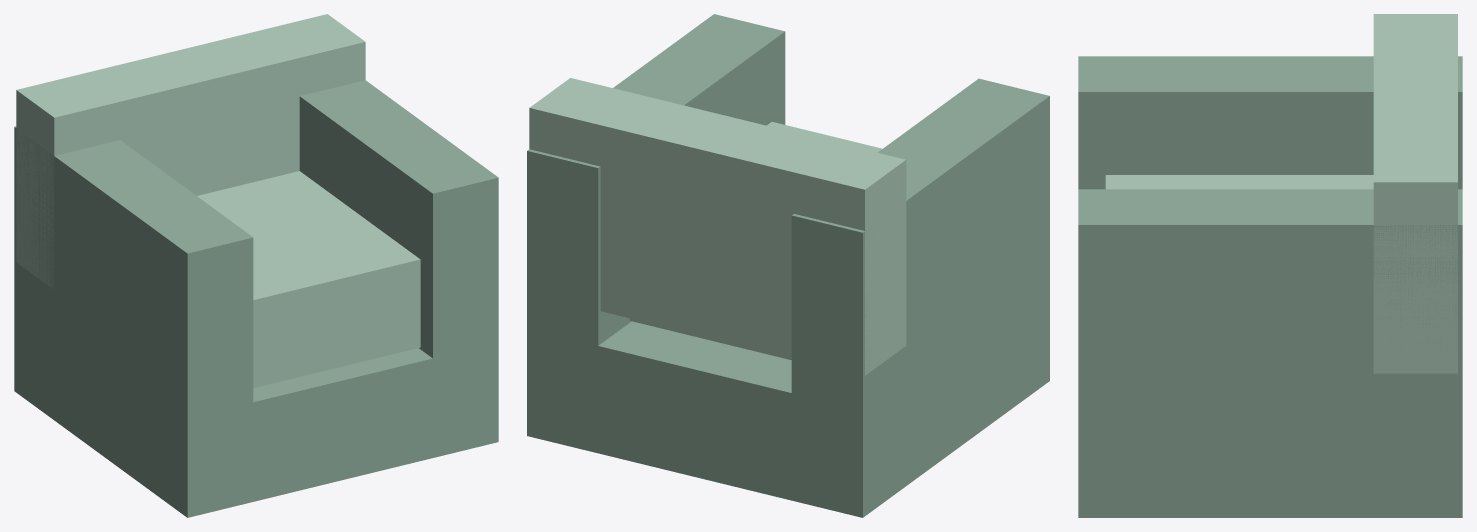
File: rf3-sofa-01.glb
3 views of the same model, side by side, from view 1: azimuth 30°, elevation 25°; view 2: azimuth 150°, elevation 25°; view 3: azimuth 270°, elevation 25° (orthographic). The views are drawn at different scales.
Size of the model in its own units: 0.85 by 0.8 by 0.82.
